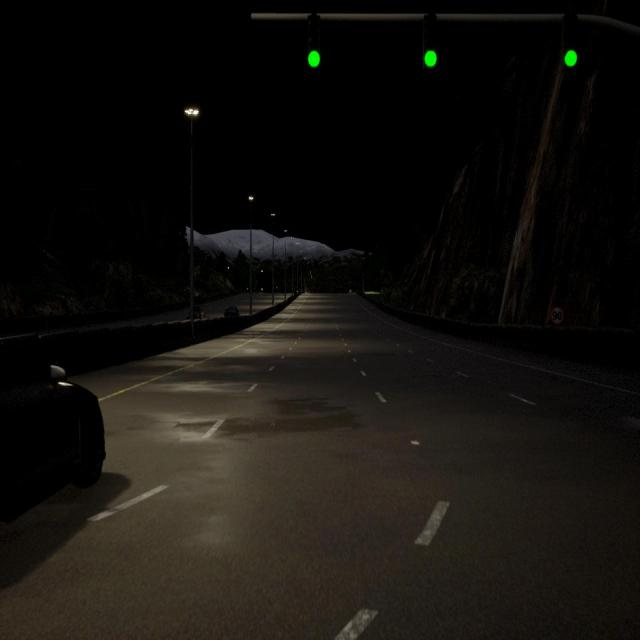Traffic_Signs: (550, 307, 564, 324)
Vehicle: (0, 363, 105, 524), (186, 306, 204, 320), (224, 306, 239, 318)
traffic_light: (560, 13, 579, 69), (423, 13, 439, 71), (307, 14, 322, 69)
